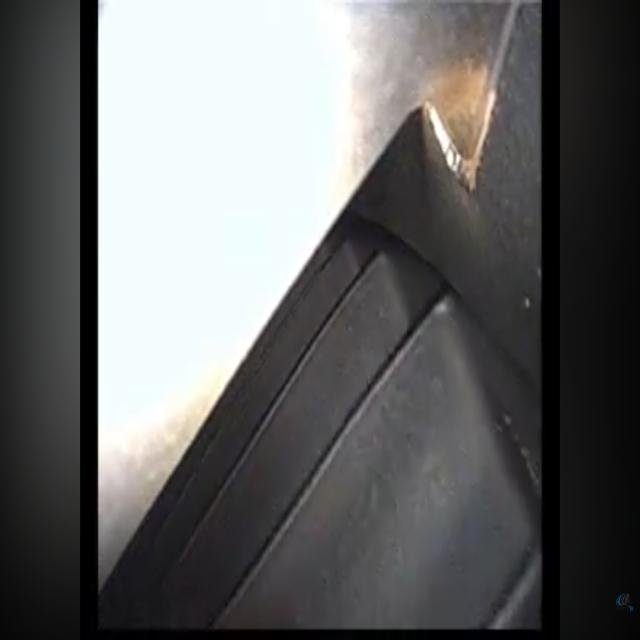turbine_blade: (219, 296, 543, 628)
